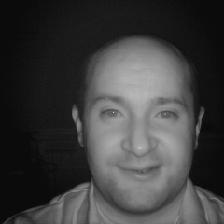happy: (61, 25, 213, 214)
